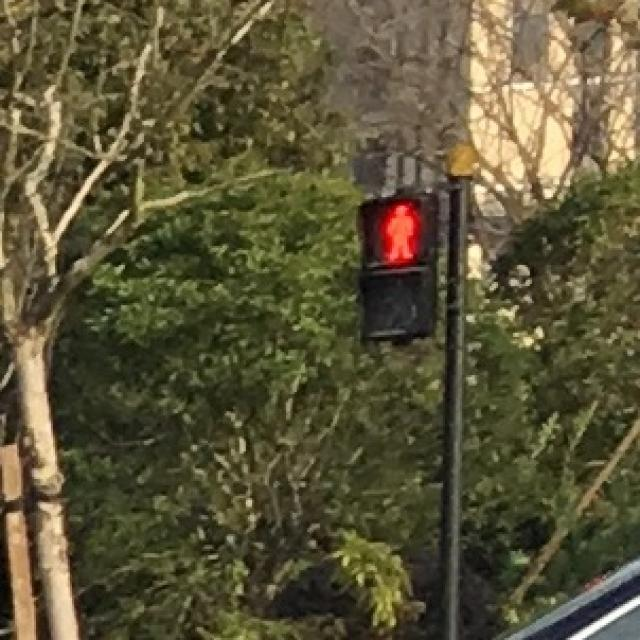red-crossing: (362, 201, 434, 265)
